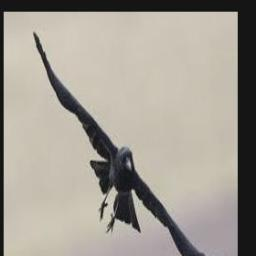Crow: (32, 29, 228, 256)
